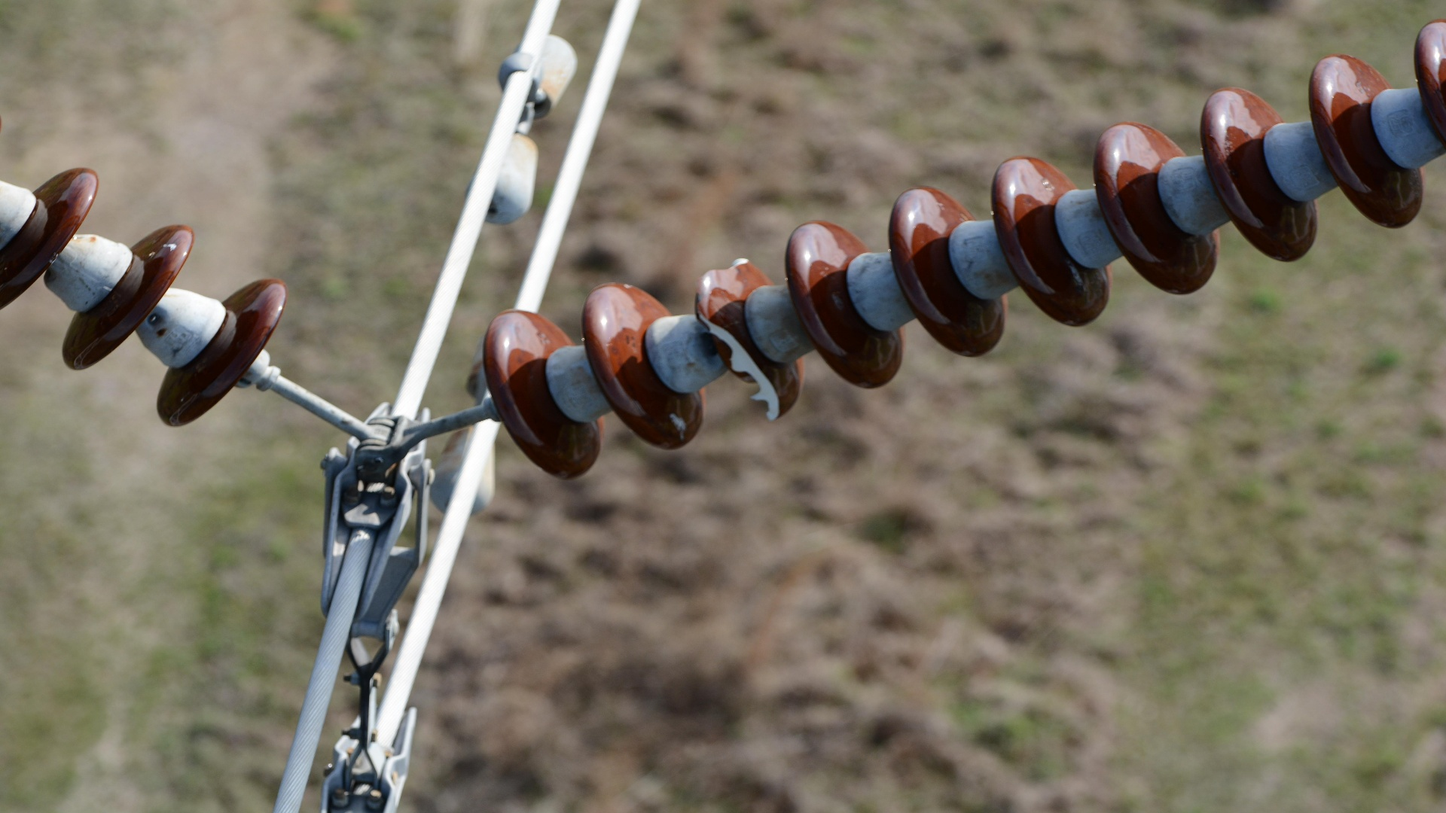damper: (459, 27, 583, 232)
